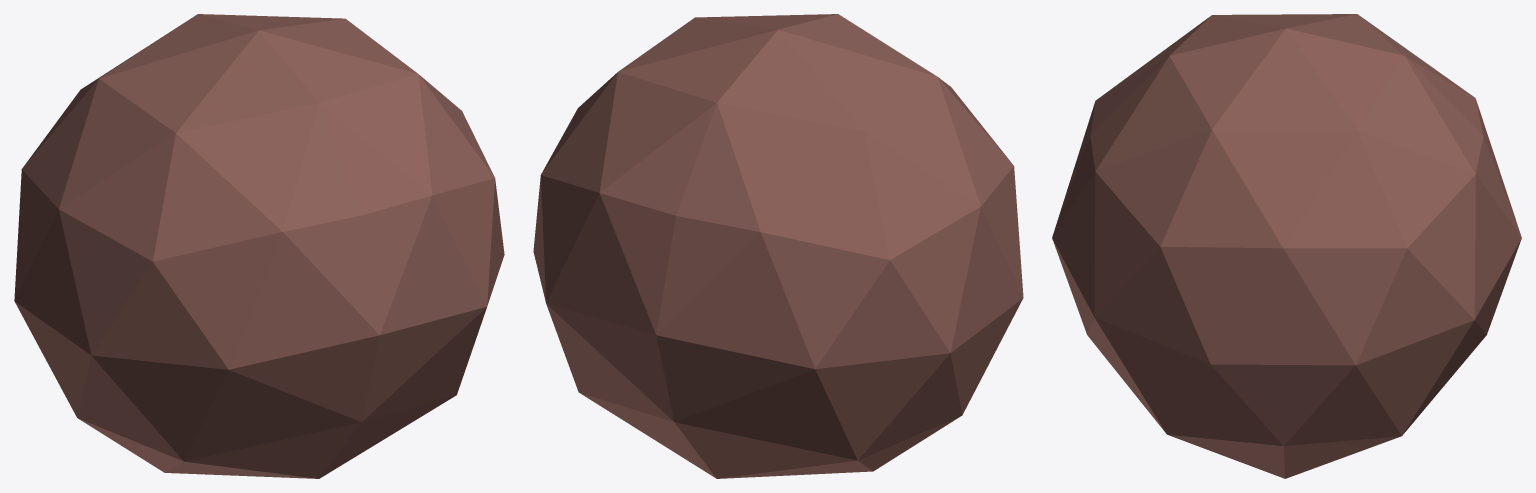
The model's file is PalmTree_Crop.glb.
The picture shows the model from 3 angles, left to right: view 1: azimuth 30°, elevation 25°; view 2: azimuth 150°, elevation 25°; view 3: azimuth 270°, elevation 25°; orthographic projection. The views are drawn at different scales.
Parts seen in each view (by area): view 1: PalmTree_Crop; view 2: PalmTree_Crop; view 3: PalmTree_Crop.
Part boxes in pixels (x1,y1,x2,y2): PalmTree_Crop: (14,14,504,478); PalmTree_Crop: (533,14,1023,478); PalmTree_Crop: (1052,14,1521,478).
Bounding box in the file's own units: 0.2243 × 0.2241 × 0.226.
